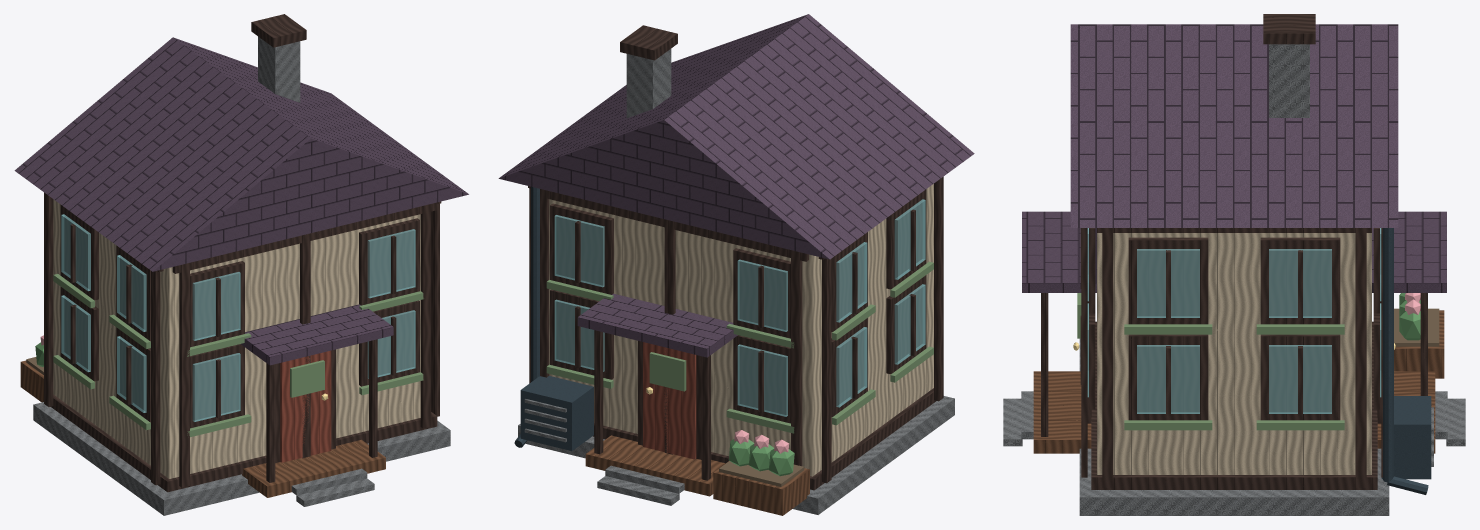
File: house_tudor_lv2.glb
3 views of the same model, side by side, from view 1: azimuth 30°, elevation 25°; view 2: azimuth 150°, elevation 25°; view 3: azimuth 270°, elevation 25° (orthographic). The views are drawn at different scales.
Parts seen in each view (by area): view 1: gable_roof, walls, foundation, front_porch_canopy, front_window_frame.003, front_door, floor_trim, front_window_frame.002, front_deck, front_window_frame, front_window_frame.001, front_timber.002 (+31 smaller); view 2: gable_roof, walls, back_porch_canopy, foundation, back_door, back_window_frame.003, back_ac_unit, back_window_frame.002, back_window_frame, back_deck, back_window_frame.001, back_garden_bed (+34 smaller); view 3: gable_roof, walls, foundation, right_window_frame.002, right_window_frame.003, right_window_frame, right_window_frame.001, floor_trim, front_porch_canopy, back_porch_canopy, right_window_glass.002, right_window_glass.003 (+29 smaller).
Part boxes in pixels (x1,y1,x2,y2): gable_roof: (14,37,468,271); walls: (53,199,420,478); foundation: (33,402,450,515); front_porch_canopy: (241,304,393,365); front_window_frame.003: (359,218,419,305); front_door: (280,350,331,462); floor_trim: (51,394,437,492); front_window_frame.002: (190,261,244,347); front_deck: (242,439,385,497); front_window_frame: (190,344,244,428); front_window_frame.001: (359,300,419,386); front_timber.002: (420,204,431,428); gable_roof: (498,14,974,259); walls: (549,184,933,476); back_porch_canopy: (577,293,737,357); foundation: (518,396,954,514); back_door: (643,342,696,459); back_window_frame.003: (550,203,613,294); back_ac_unit: (520,376,593,450); back_window_frame.002: (733,248,790,338); back_window_frame: (733,335,790,423); back_deck: (585,435,725,496); back_window_frame.001: (550,289,613,379); back_garden_bed: (713,461,809,515); gable_roof: (1070,24,1398,227); walls: (1097,233,1371,474); foundation: (1079,338,1389,515); right_window_frame.002: (1128,237,1208,324); right_window_frame.003: (1260,237,1340,324); right_window_frame: (1128,334,1208,420); right_window_frame.001: (1260,334,1340,420); floor_trim: (1091,321,1377,489); front_porch_canopy: (1022,211,1096,292); back_porch_canopy: (1372,211,1446,292); right_window_glass.002: (1137,249,1199,317); right_window_glass.003: (1269,249,1331,317).
Size of the model in its own units: 3.15 by 3.56 by 3.36.
Materials: 13 (7 with a texture image).
